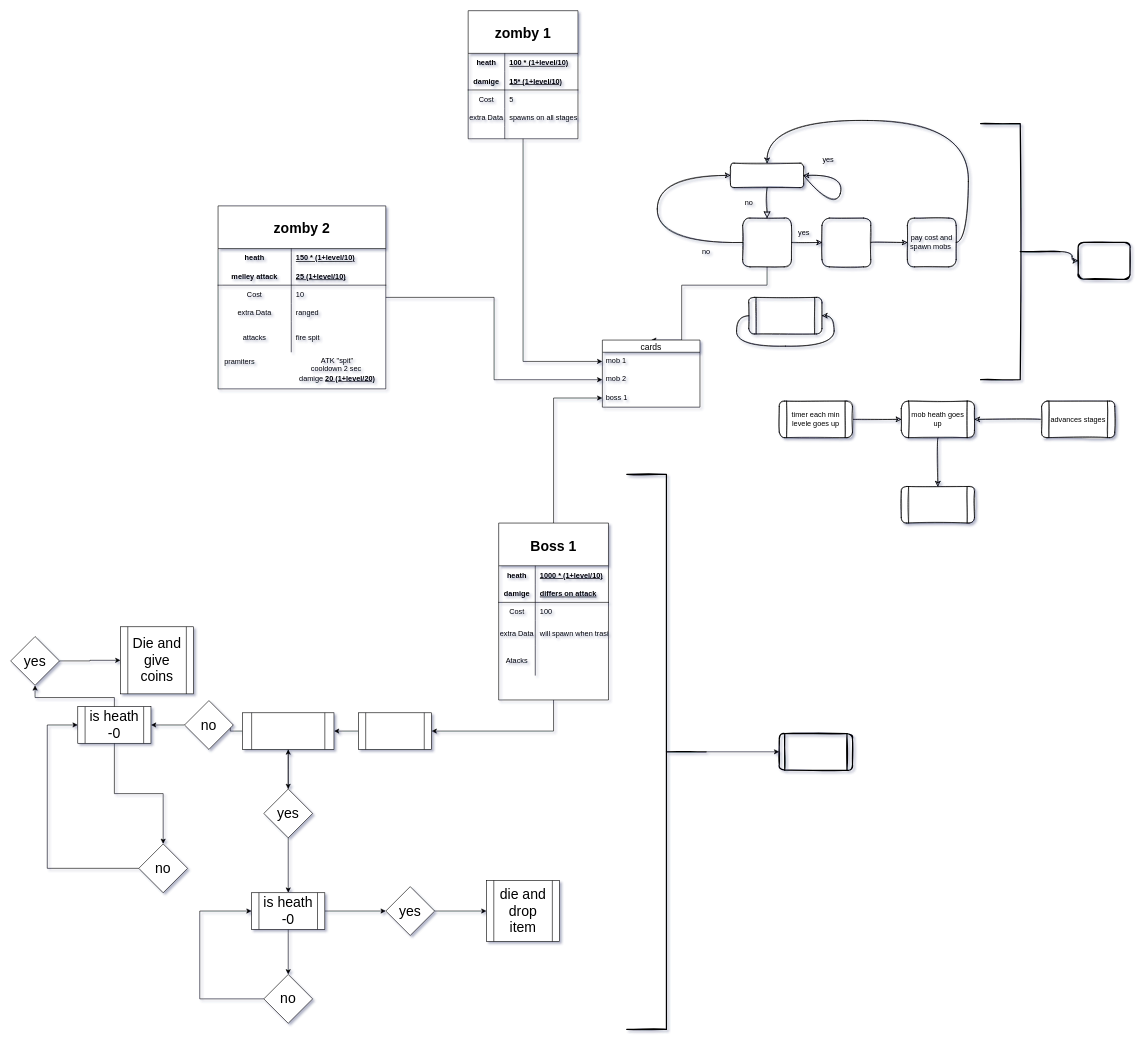
Image size: 1145x1044. Some labels were removed from this diagram. The centre of each missing label's shape, as x and y in pixels:
"boss code" belongs at pixel 815 751.
"damage goes up" belongs at pixel 937 504.
"directer code/ spawning code" belongs at pixel 1103 260.
"each 1/4 sec add credits = min gone by on clock * stage" belongs at pixel 785 315.
"gen random card can afford card" belongs at pixel 766 242.
"gen random number 0- amount can afford" belongs at pixel 846 242.
"is from telleporter" belongs at pixel 288 730.
"is spawn cap reached" belongs at pixel 767 175.
"when spawn" belongs at pixel 395 730.
